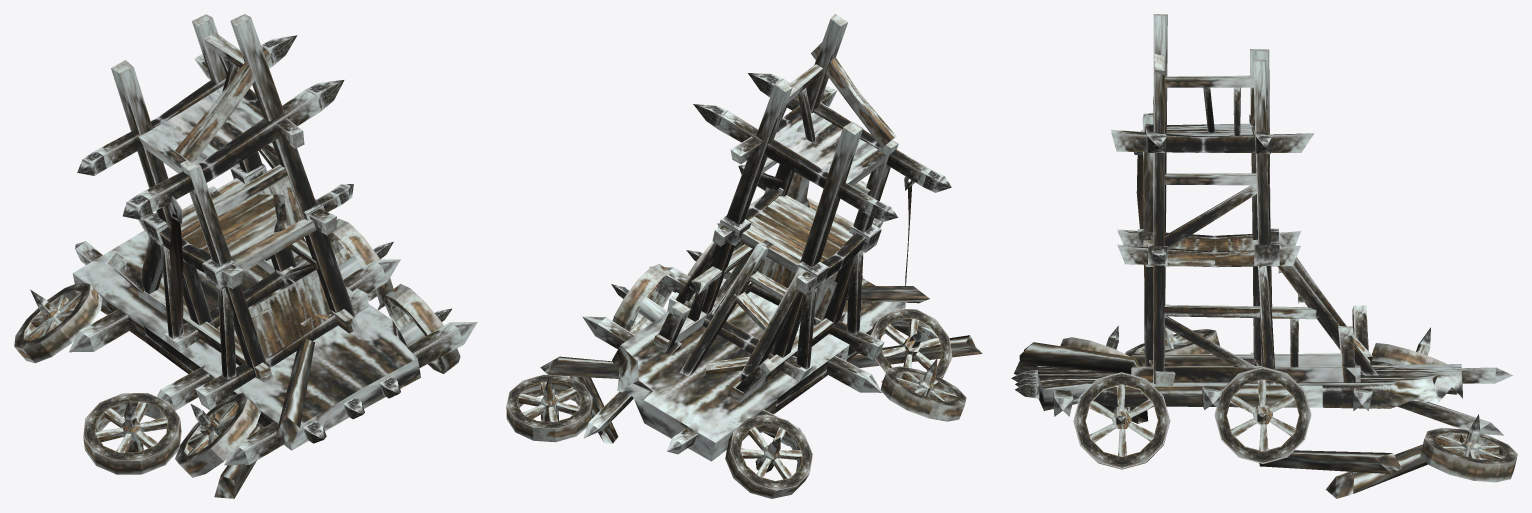
Rendered from S_Build_Snowland111.FBX.
3 renders of one model, left to right at view 1: azimuth 30°, elevation 25°; view 2: azimuth 150°, elevation 25°; view 3: azimuth 270°, elevation 25°, orthographic. The views are drawn at different scales.
Visible parts, largest first — view 1: S_Build_Snowland111; view 2: S_Build_Snowland111; view 3: S_Build_Snowland111.
Boxes of the visible parts, x1=… form: S_Build_Snowland111: x1=14, y1=14, x2=477, y2=498; S_Build_Snowland111: x1=506, y1=14, x2=982, y2=498; S_Build_Snowland111: x1=1011, y1=14, x2=1517, y2=498.
Size of the model in its own units: 679 by 833 by 751.
